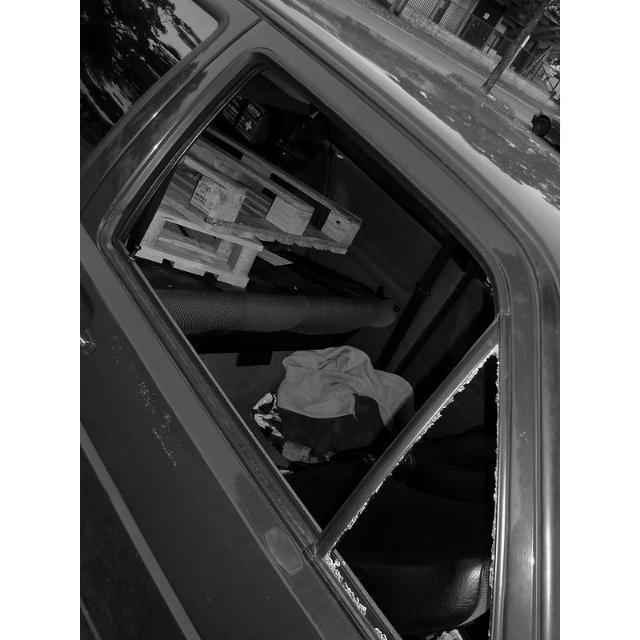doorouter-dent: (86, 373, 372, 639)
